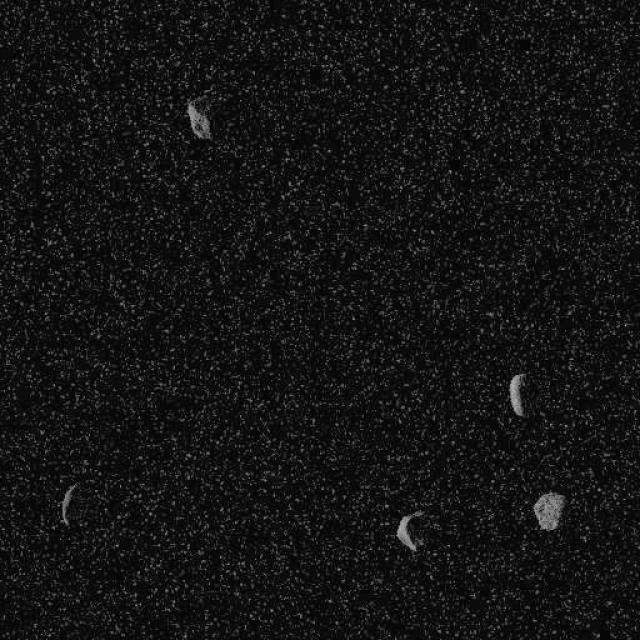D2: (532, 490, 566, 531), (185, 95, 214, 140), (395, 512, 423, 552), (58, 482, 78, 526), (508, 372, 526, 418)
